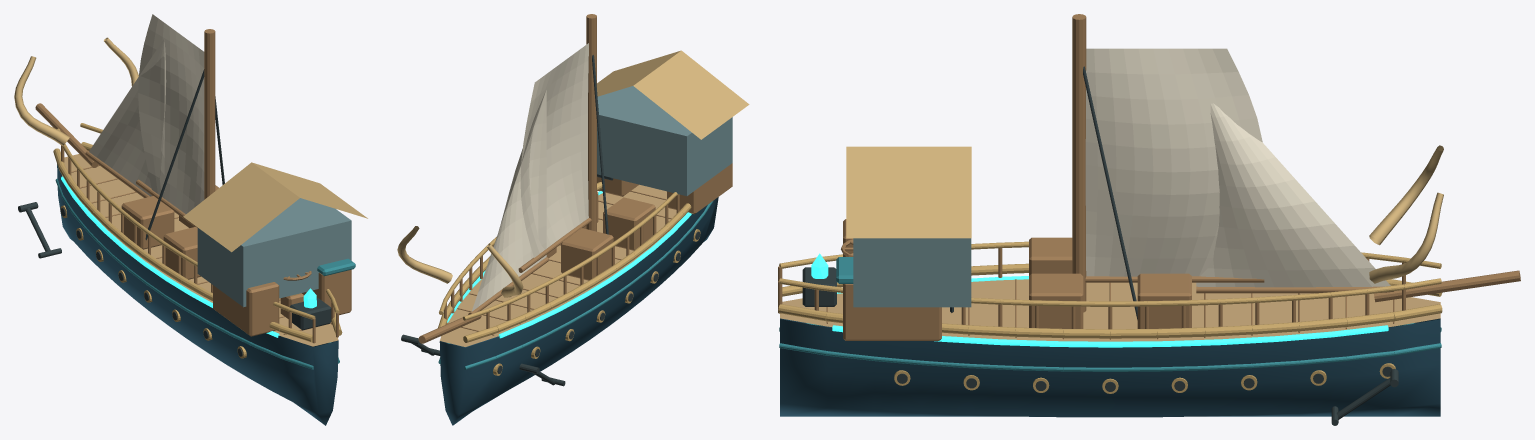
File: ship_barque.glb
3 renders of one model, left to right at view 1: azimuth 30°, elevation 25°; view 2: azimuth 150°, elevation 25°; view 3: azimuth 270°, elevation 25°, orthographic. The views are drawn at different scales.
Parts seen in each view (by area): view 1: ship_barque; view 2: ship_barque; view 3: ship_barque.
Boxes of the visible parts, x1=… form: ship_barque: x1=14, y1=14, x2=367, y2=425; ship_barque: x1=397, y1=14, x2=749, y2=425; ship_barque: x1=778, y1=14, x2=1520, y2=425.
Bounding box in the file's own units: 2.73 × 5.68 × 9.56.
